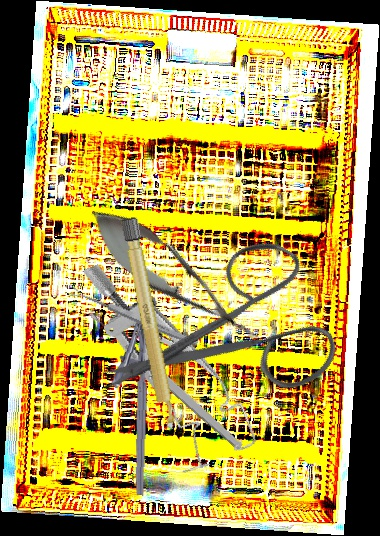Iris Scissors: (94, 199, 370, 482)
Micro Scissor: (75, 193, 273, 361)
Needle Holder: (107, 295, 152, 496)
Scalpel Handle: (120, 216, 179, 435)
Speculum: (80, 233, 260, 483)
Surgical Spoon: (88, 309, 245, 453), (70, 286, 199, 348)
